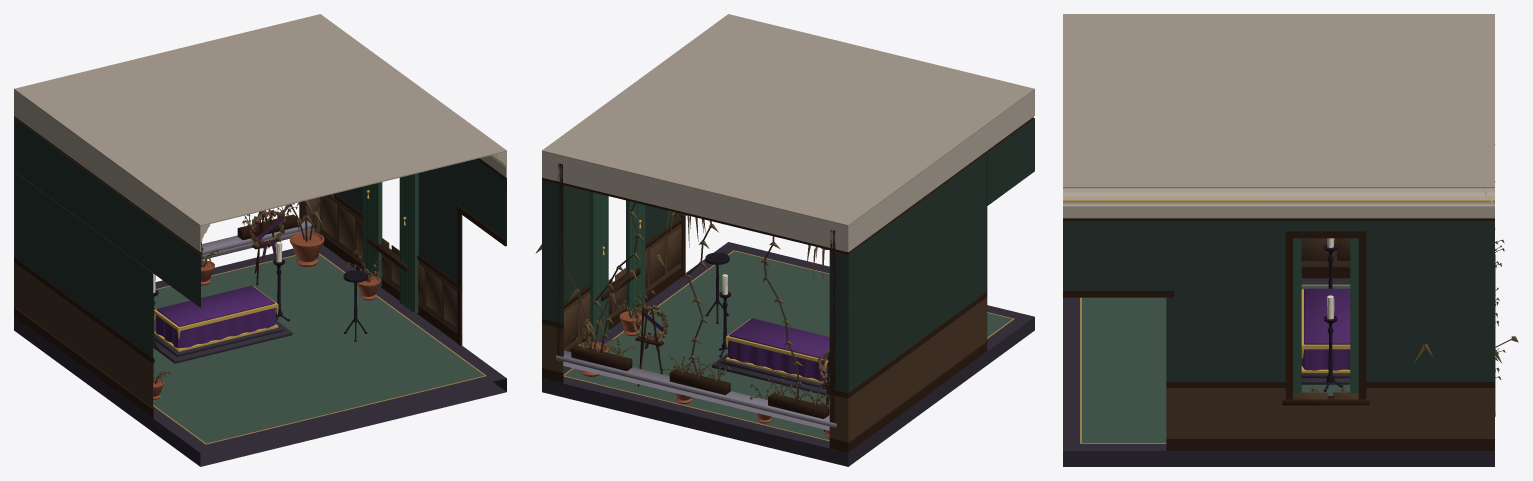
Rendered from conserv.glb.
3 views of the same model, side by side, from view 1: azimuth 30°, elevation 25°; view 2: azimuth 150°, elevation 25°; view 3: azimuth 270°, elevation 25° (orthographic). The views are drawn at different scales.
Parts seen in each view (by area): view 1: Con_main, Con_right, Con_back; view 2: Con_main, Con_back, Con_right; view 3: Con_main, Con_right.
Boxes of the visible parts, x1,y1,x2,y2 form: Con_main: [14, 14, 506, 466]; Con_right: [319, 151, 506, 345]; Con_back: [14, 92, 320, 316]; Con_main: [535, 14, 1034, 466]; Con_back: [542, 152, 853, 452]; Con_right: [542, 151, 685, 374]; Con_main: [1063, 14, 1518, 466]; Con_right: [1063, 188, 1494, 450].
Bounding box in the file's own units: 9.68 × 6.58 × 9.71.
